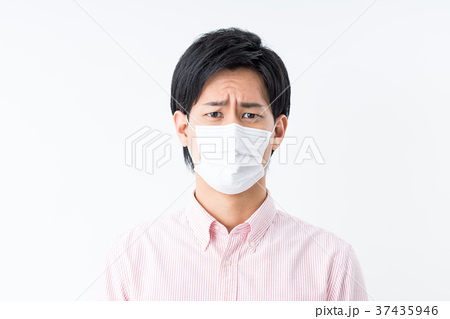mask: (193, 122, 274, 189)
